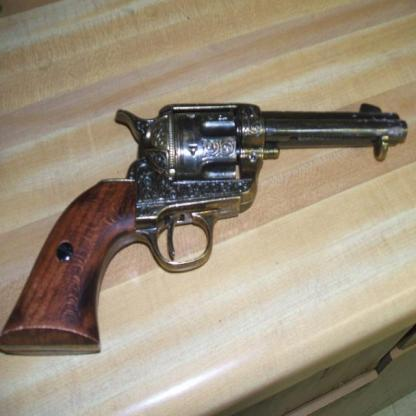weapon: (0, 101, 410, 358)
